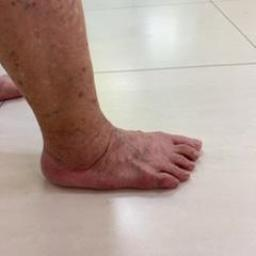Lateral View -Right Foot-: (21, 90, 221, 212)
